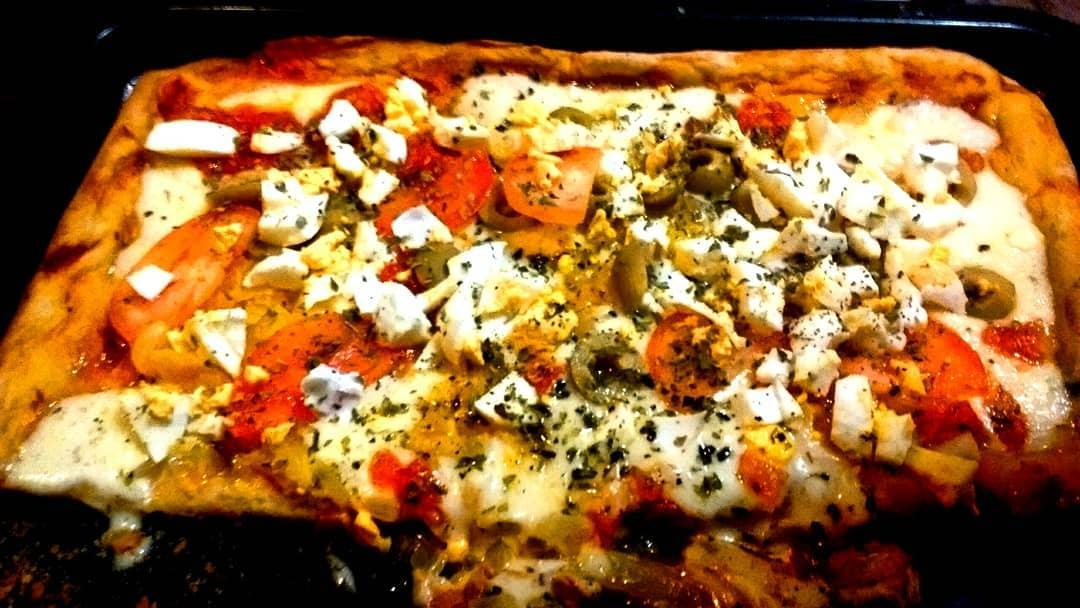Olives: (568, 333, 645, 406), (475, 177, 537, 230), (961, 264, 1016, 322), (614, 240, 652, 316), (679, 150, 732, 191), (413, 245, 462, 287), (546, 104, 601, 129)
Pizza: (0, 43, 1080, 535)
Tomatoes: (110, 205, 259, 340), (231, 311, 347, 444), (373, 142, 493, 235), (504, 144, 602, 225), (895, 323, 990, 399), (646, 314, 727, 402), (308, 85, 383, 130), (737, 452, 787, 509)
